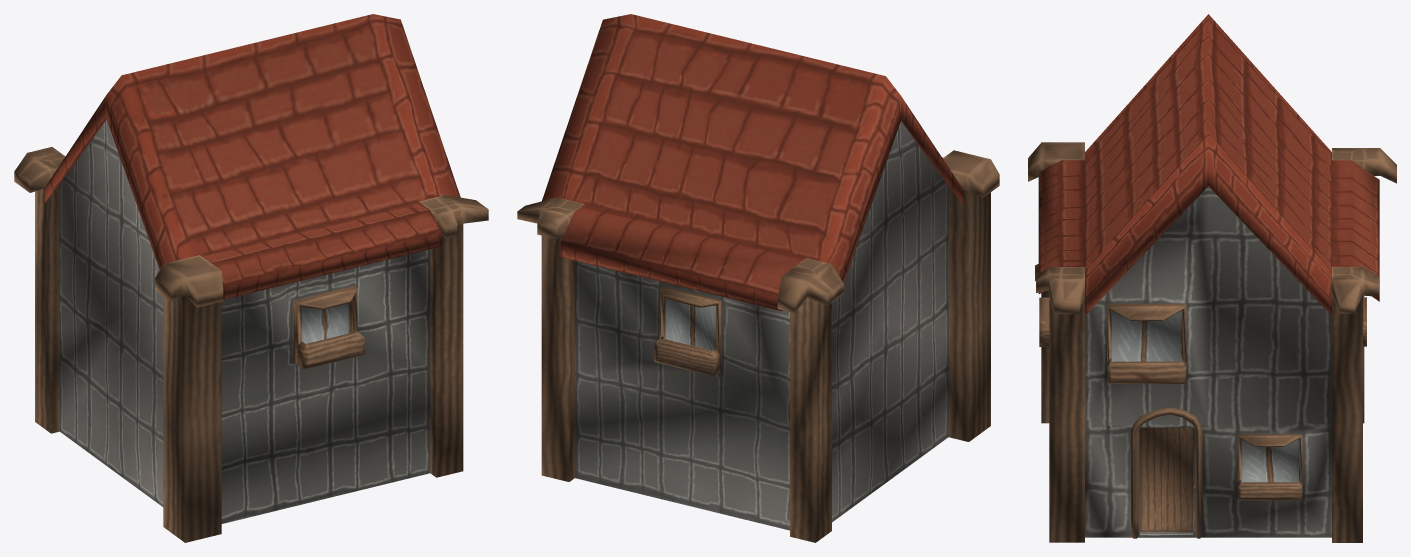
Rendered from Casa_Eras_1.fbx.
3 views of the same model, side by side, from view 1: azimuth 30°, elevation 25°; view 2: azimuth 150°, elevation 25°; view 3: azimuth 270°, elevation 25° (orthographic).
Visible parts, largest first — view 1: Cube; view 2: Cube; view 3: Cube.
Boxes of the visible parts, x1,y1,x2,y2 form: Cube: [14, 14, 488, 542]; Cube: [517, 14, 999, 542]; Cube: [1028, 14, 1396, 542].
Size of the model in its own units: 4.75 by 5.66 by 4.72.
